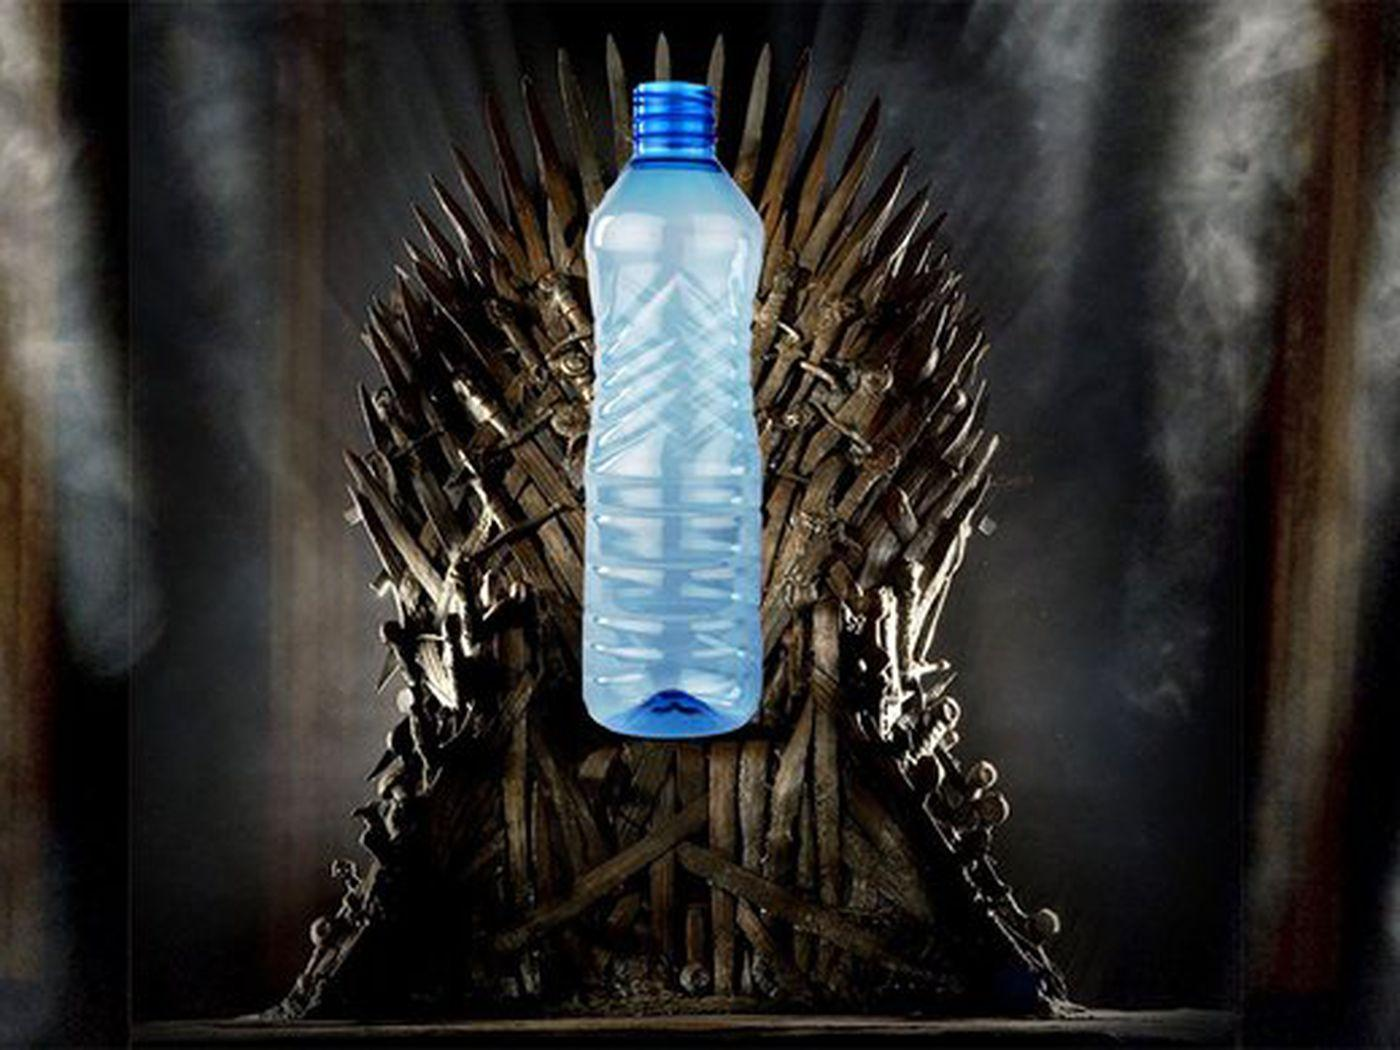bottle: (573, 81, 806, 804)
